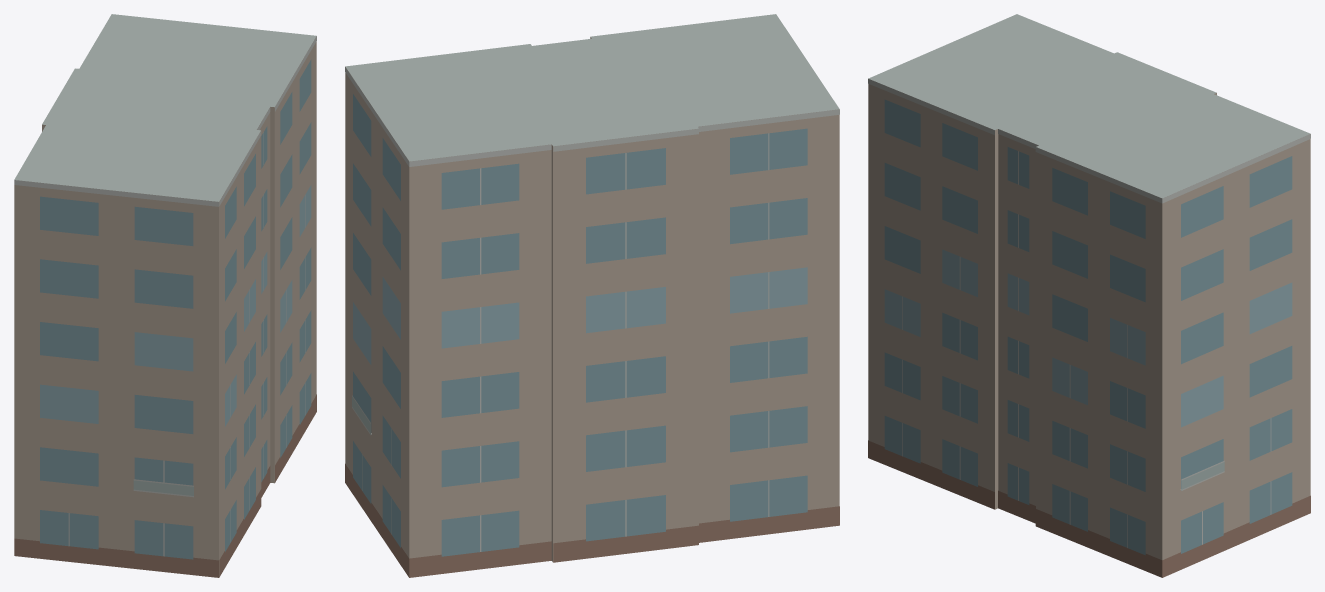
File: survey-upis-32845275.glb
3 views of the same model, side by side, from view 1: azimuth 30°, elevation 25°; view 2: azimuth 150°, elevation 25°; view 3: azimuth 270°, elevation 25° (orthographic). The views are drawn at different scales.
Visible parts, largest first — view 1: survey-upis-32845275.tmp; view 2: survey-upis-32845275.tmp; view 3: survey-upis-32845275.tmp.
Part boxes in pixels (x1,y1,x2,y2): survey-upis-32845275.tmp: (14, 14, 316, 577); survey-upis-32845275.tmp: (345, 14, 839, 577); survey-upis-32845275.tmp: (868, 14, 1310, 577).
Size of the model in its own units: 19.09 by 18.3 by 19.36.
